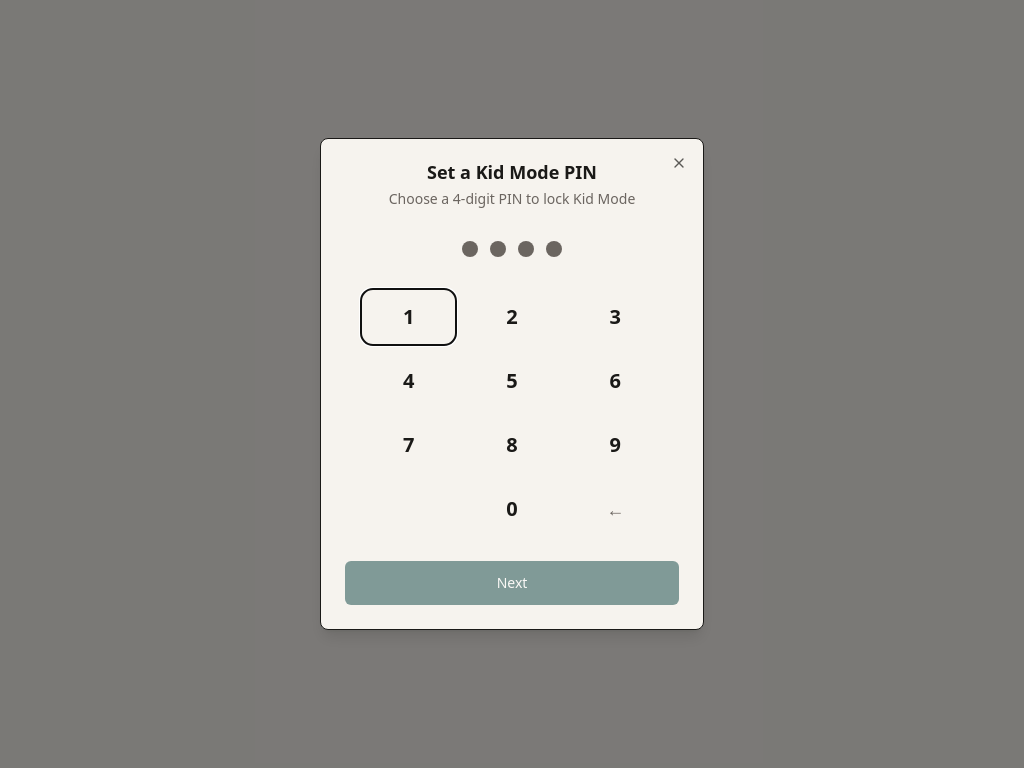
Test: PinSetupModal › advances to confirm step after entering 4 digits and clicking Next
Click the button "1": [409, 317] box [361, 289, 456, 345]
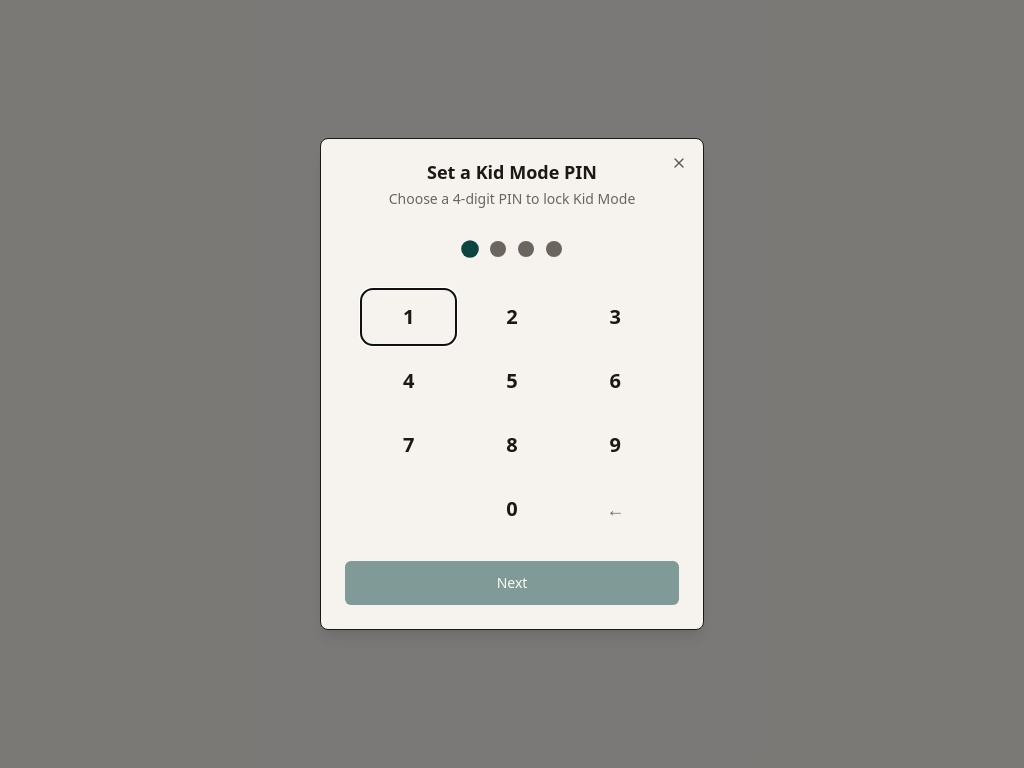
Click the button "2": [512, 317] box [464, 289, 560, 345]
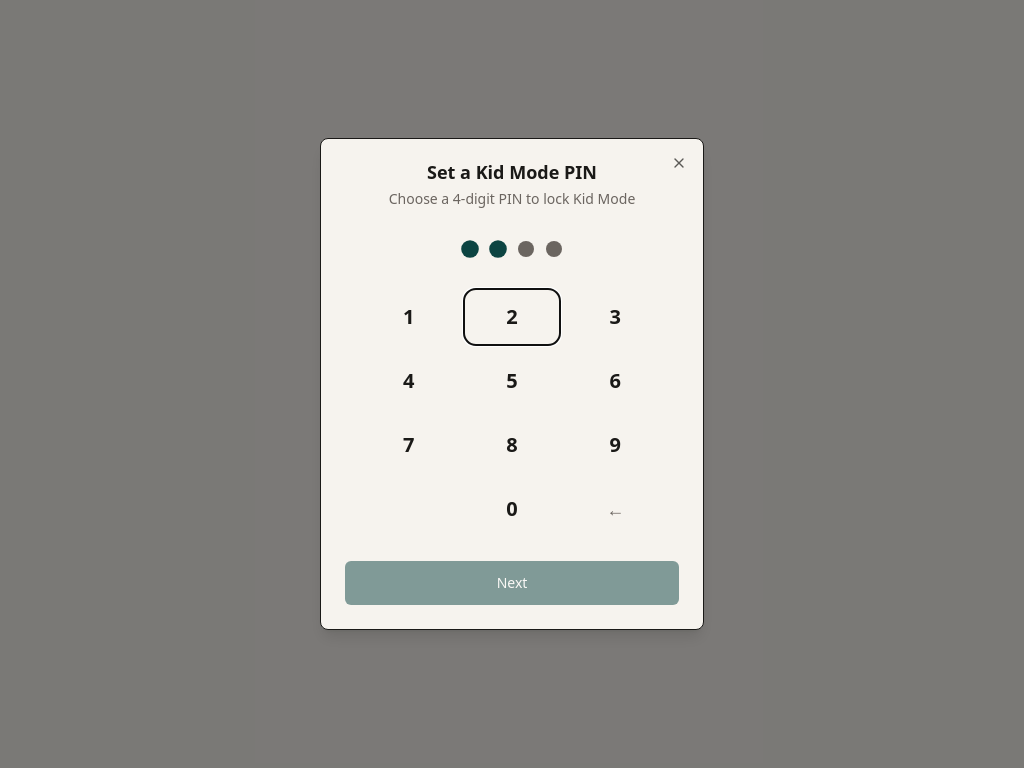
Click the button "3": [615, 317] box [568, 289, 663, 345]
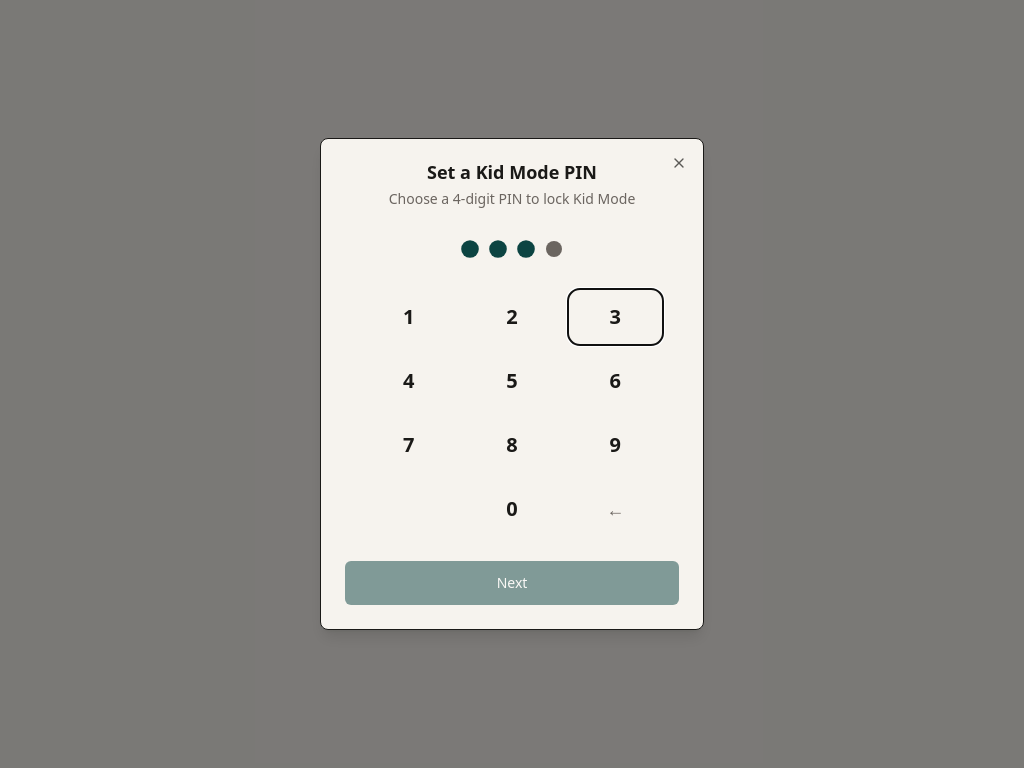
Click the button "4": [409, 381] box [361, 353, 456, 409]
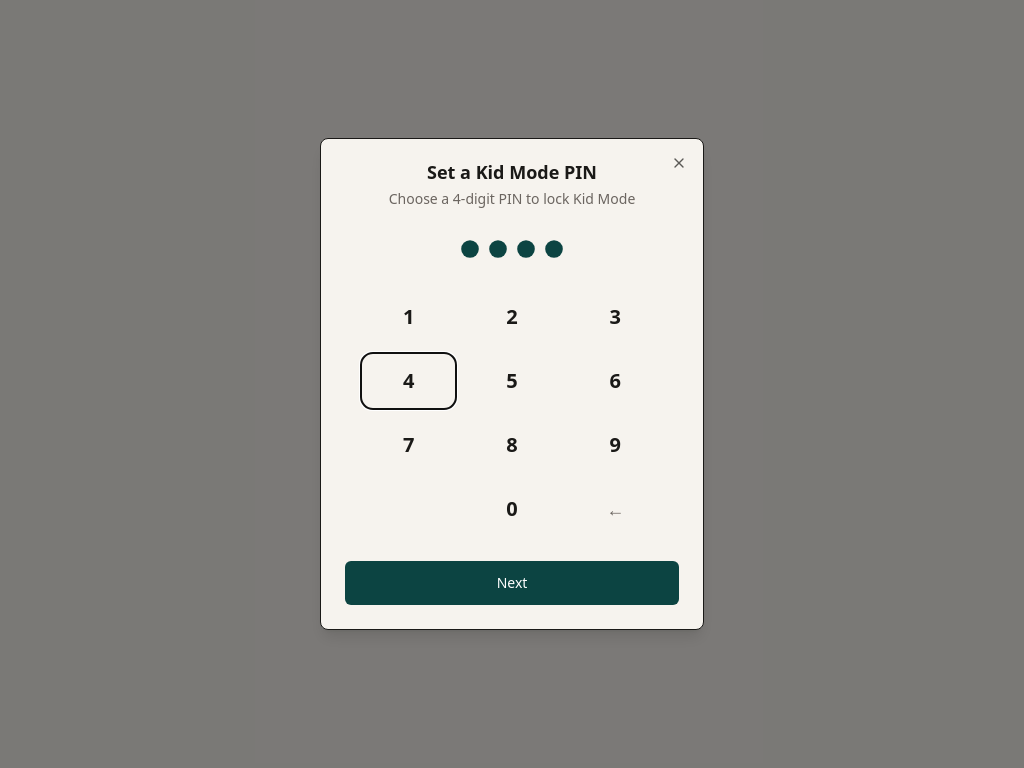
Click the button "Next": [512, 583] box [345, 561, 679, 605]
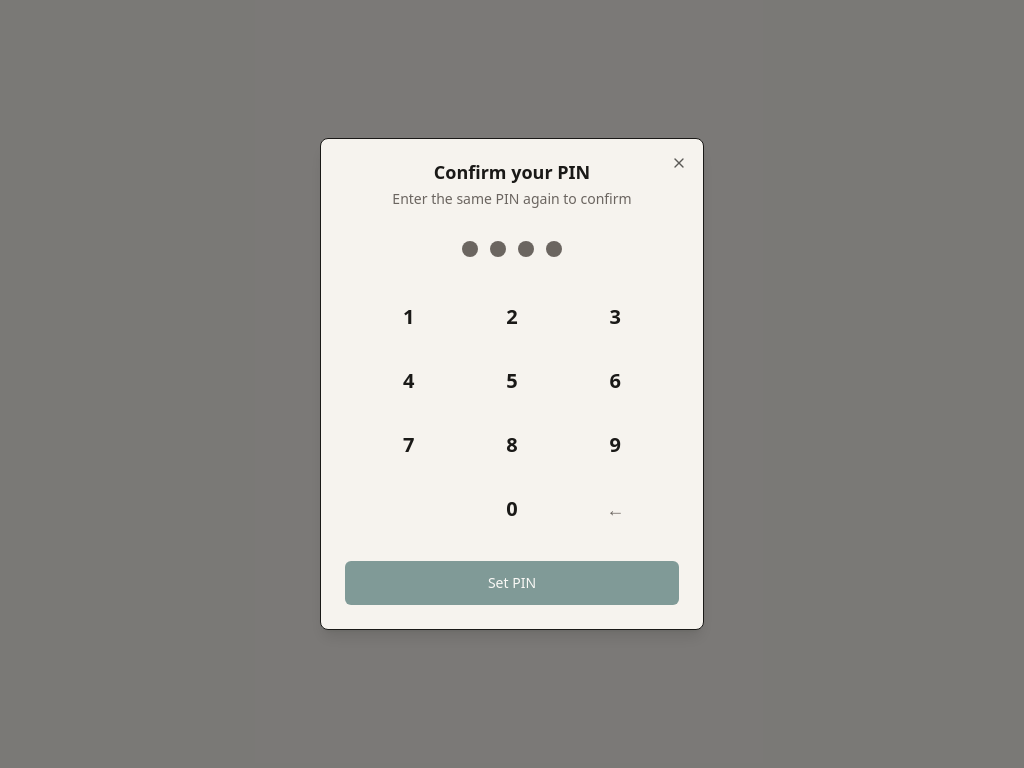
Now the heading "Confirm your PIN" is shown, box [434, 160, 590, 184]
